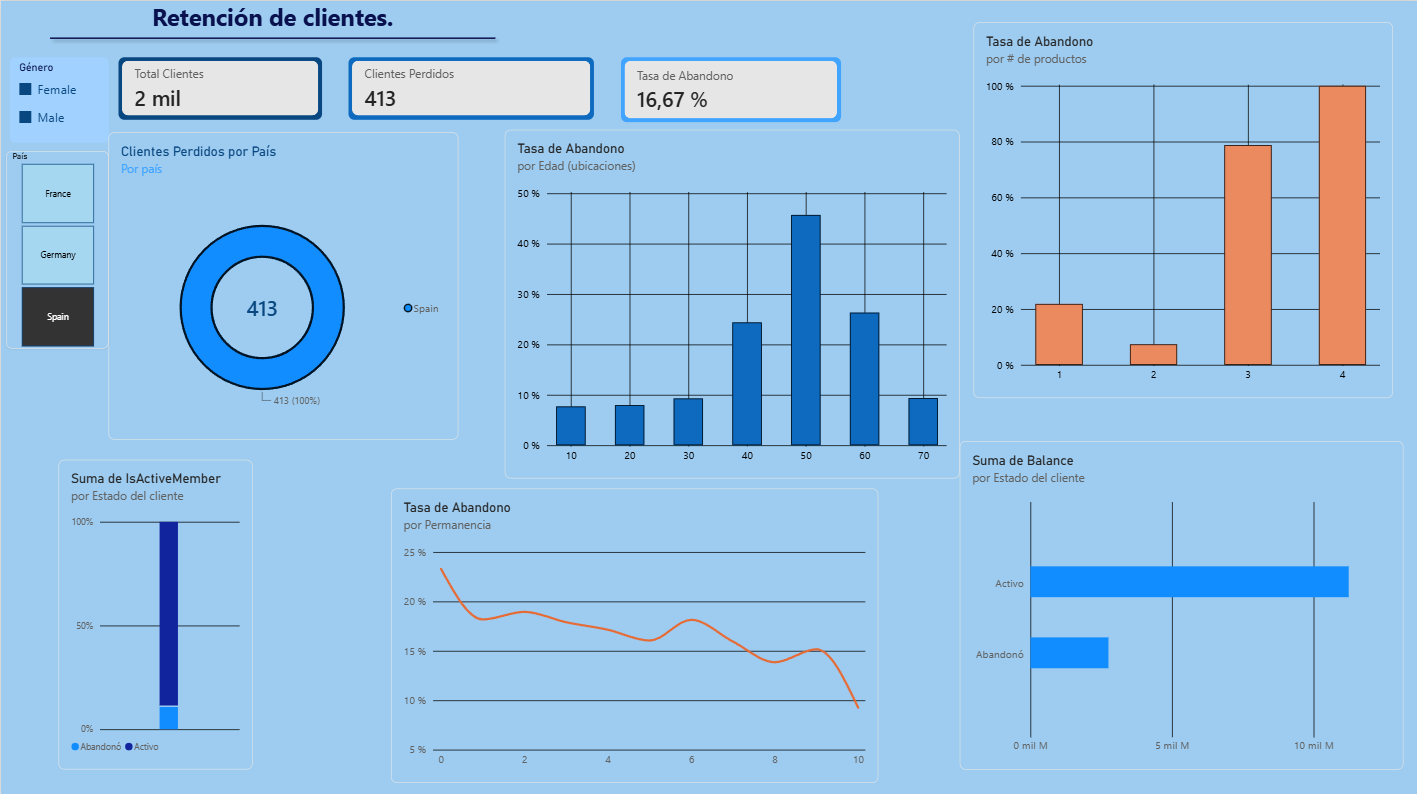

What the dashboard file says about the page in this screenshot:
{"tool":"powerbi","page":{"name":"Página 1","canvas":[1920,1080],"ordinal":0},"visuals":[{"type":"textbox","box":[10.3,0,716.3,57.6],"z":0},{"type":"shape","box":[58,0,621.6,100.9],"z":1000},{"type":"cardVisual","fields":{"Data":["_Medidas.Total Clientes"]},"box":[160.1,75.5,276.1,84.7],"z":2000},{"type":"cardVisual","fields":{"Data":["_Medidas.Clientes Perdidos"]},"box":[471.2,75.5,333.1,84.7],"z":3000},{"type":"cardVisual","fields":{"Data":["_Medidas.Tasa de Abandono"]},"box":[841.1,75.5,298.2,88.3],"z":4000},{"type":"slicer","fields":{"Values":["Churn_Modelling.Geography"]},"box":[6,204,139,268],"z":5000},{"type":"slicer","fields":{"Values":["Churn_Modelling.Gender"]},"box":[11,75.5,134.4,116],"z":6000},{"type":"donutChart","fields":{"Category":["Churn_Modelling.Geography"],"Y":["_Medidas.Clientes Perdidos"]},"box":[145.7,178.6,474.3,417.1],"z":7000},{"type":"clusteredColumnChart","fields":{"Category":["Churn_Modelling.Age (ubicaciones)"],"Y":["_Medidas.Tasa de Abandono"]},"box":[682.8,174.8,616.6,473],"z":8000},{"type":"barChart","fields":{"Category":["Churn_Modelling.Estado del cliente"],"Y":["Sum(Churn_Modelling.Balance)"]},"box":[1300,596,601.8,445.4],"z":9000},{"type":"clusteredColumnChart","fields":{"Category":["Churn_Modelling.NumOfProducts"],"Y":["_Medidas.Tasa de Abandono"]},"box":[1317.8,29.4,568.7,509.8],"z":9001},{"type":"hundredPercentStackedColumnChart","fields":{"Series":["Churn_Modelling.Estado del cliente"],"Y":["Sum(Churn_Modelling.IsActiveMember)"]},"box":[78,622,263.2,419.6],"z":9002},{"type":"lineChart","fields":{"Category":["Churn_Modelling.Tenure"],"Y":["_Medidas.Tasa de Abandono"]},"box":[528.2,660.7,660.7,399.4],"z":9003}]}

Visuals, with their boxes in screenshot pixels (x1, y1, x2, y2), scaled from the page's 1920x1080 canvas onto the 1417x794 screenshot:
textbox: (left=8, top=0, right=536, bottom=42)
shape: (left=43, top=0, right=502, bottom=74)
cardVisual - _Medidas.Total Clientes: (left=118, top=56, right=322, bottom=118)
cardVisual - _Medidas.Clientes Perdidos: (left=348, top=56, right=594, bottom=118)
cardVisual - _Medidas.Tasa de Abandono: (left=621, top=56, right=841, bottom=120)
slicer - Churn_Modelling.Geography: (left=4, top=150, right=107, bottom=347)
slicer - Churn_Modelling.Gender: (left=8, top=56, right=107, bottom=141)
donutChart - Churn_Modelling.Geography x _Medidas.Clientes Perdidos: (left=108, top=131, right=458, bottom=438)
clusteredColumnChart - Churn_Modelling.Age (ubicaciones) x _Medidas.Tasa de Abandono: (left=504, top=129, right=959, bottom=476)
barChart - Churn_Modelling.Estado del cliente x Sum(Churn_Modelling.Balance): (left=959, top=438, right=1404, bottom=766)
clusteredColumnChart - Churn_Modelling.NumOfProducts x _Medidas.Tasa de Abandono: (left=973, top=22, right=1392, bottom=396)
hundredPercentStackedColumnChart - Churn_Modelling.Estado del cliente x Sum(Churn_Modelling.IsActiveMember): (left=58, top=457, right=252, bottom=766)
lineChart - Churn_Modelling.Tenure x _Medidas.Tasa de Abandono: (left=390, top=486, right=877, bottom=779)
